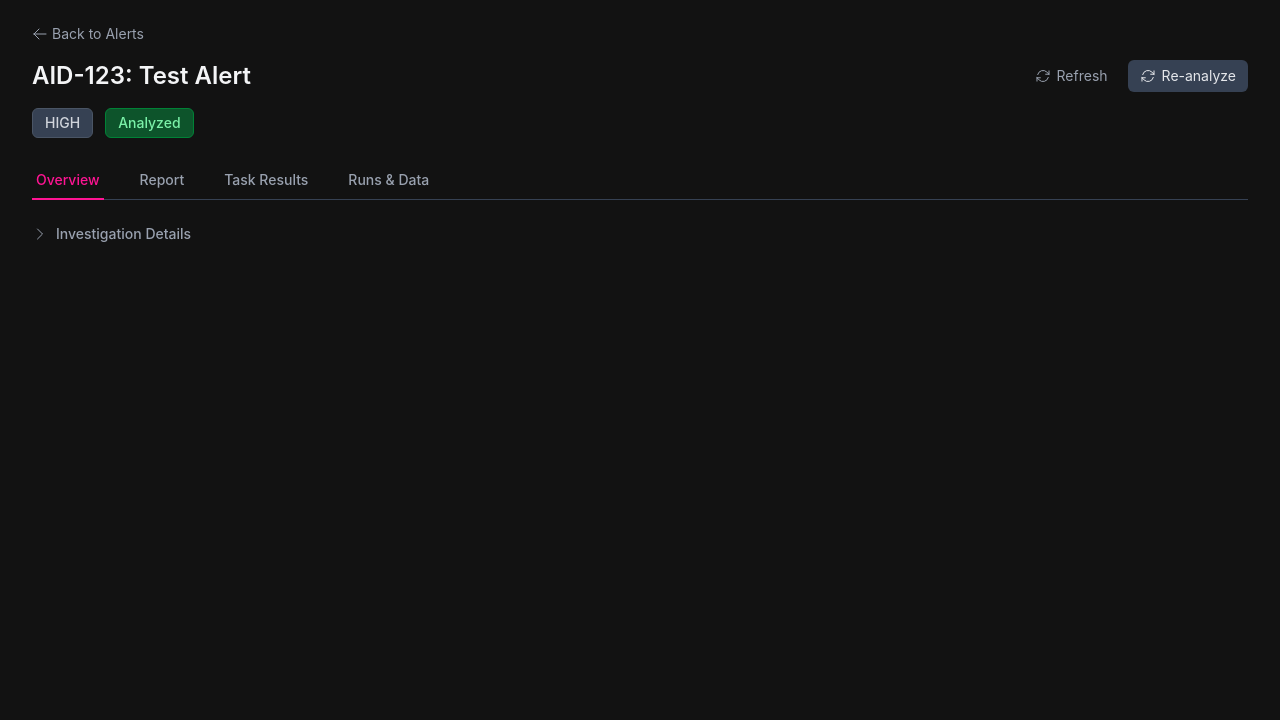
Test: AlertDetails - Re-analyze Confirmation Modal › should close modal when clicking Cancel
Expected: the heading "AID-123: Test Alert" is shown, [32, 61, 251, 90]
Click the button "Re-analyze" at (1188, 76), box [1128, 60, 1248, 92]
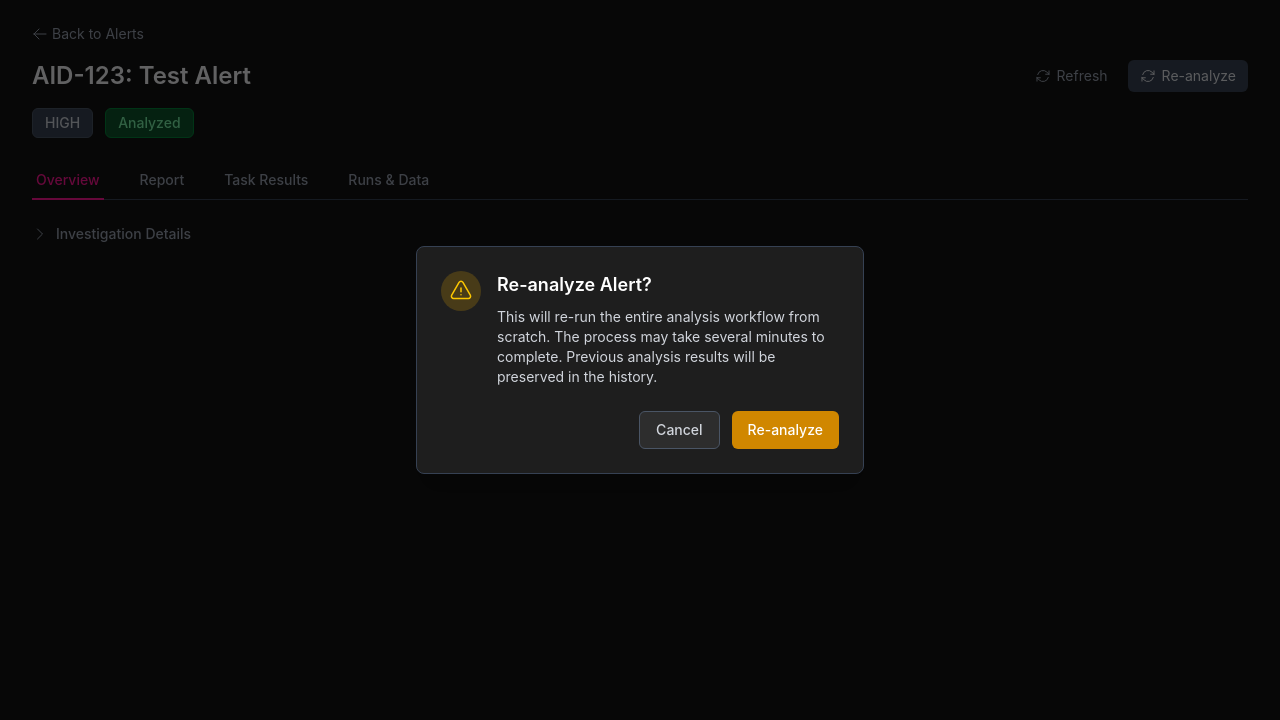
Expected: the heading "Re-analyze Alert?" is shown, [497, 274, 652, 295]
Note: Click Cancel button
Click the button "Cancel" at (679, 430), box [639, 411, 720, 449]
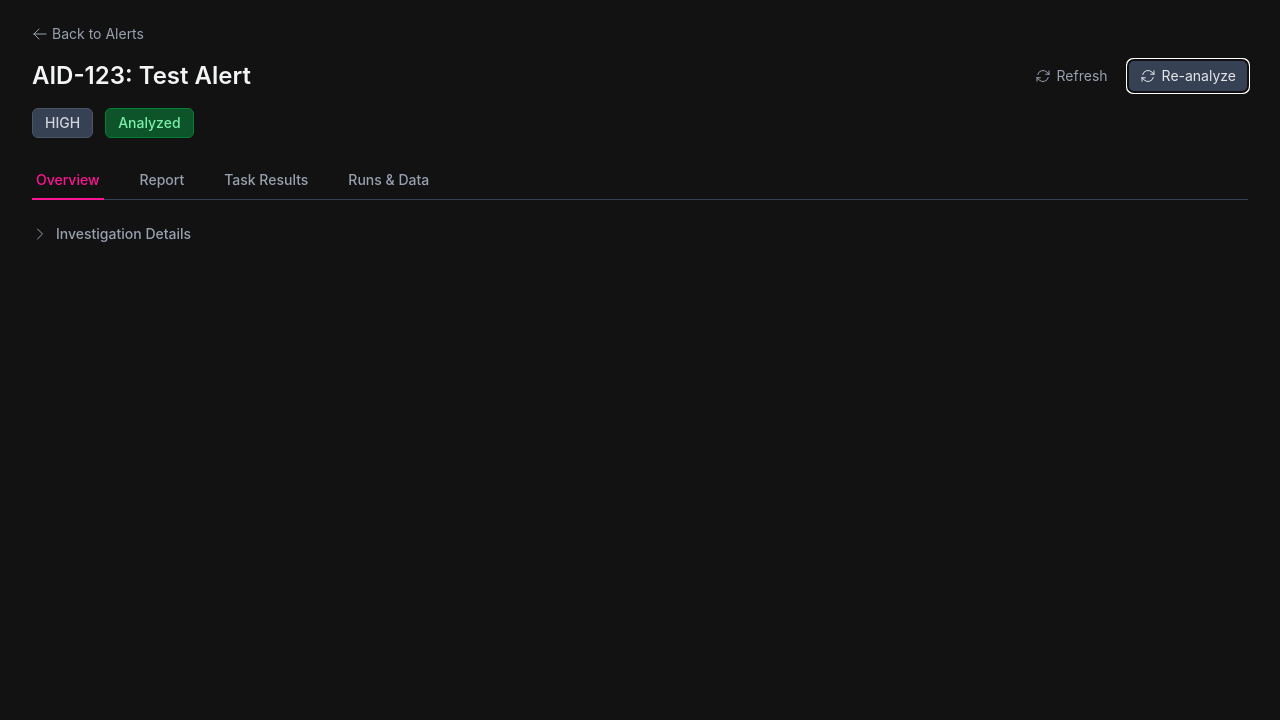
Expected: the heading "Re-analyze Alert?" is gone
